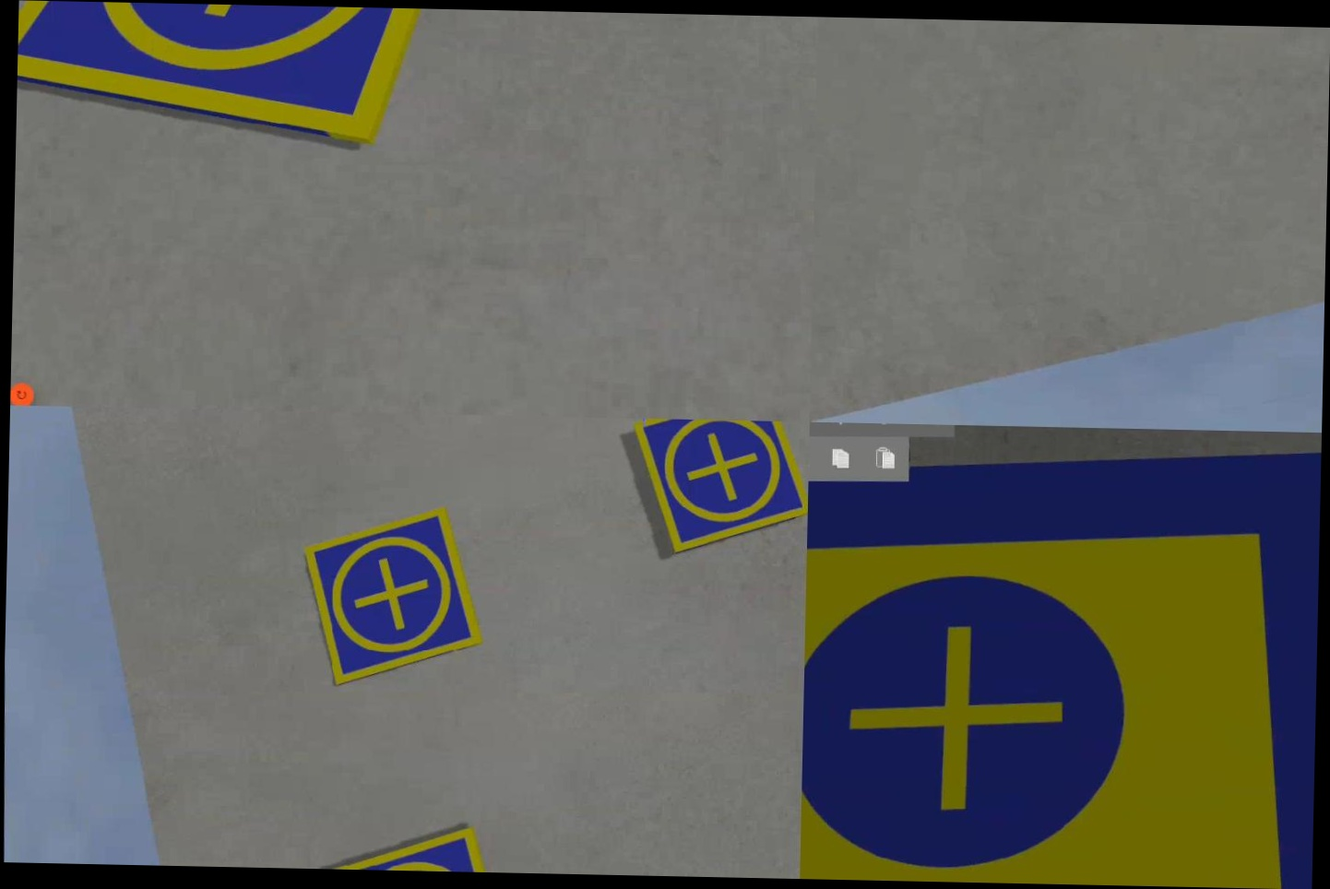large_base: (800, 439, 1321, 889)
small_base: (16, 0, 484, 162), (303, 505, 485, 690), (632, 419, 810, 553), (323, 823, 517, 872)
